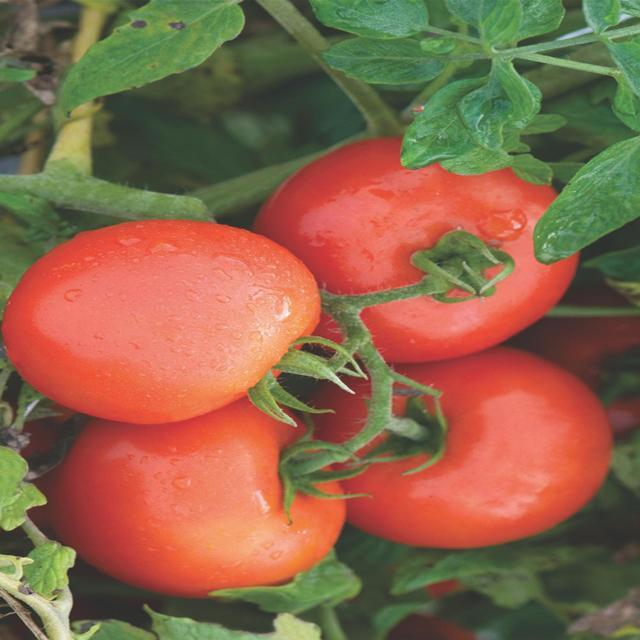kirmizi: (24, 160, 616, 560)
